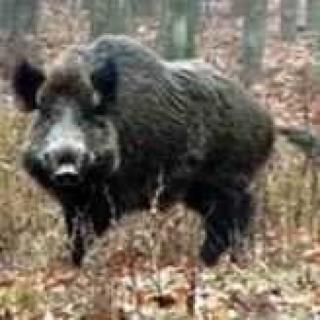Pig: (17, 34, 312, 256)
